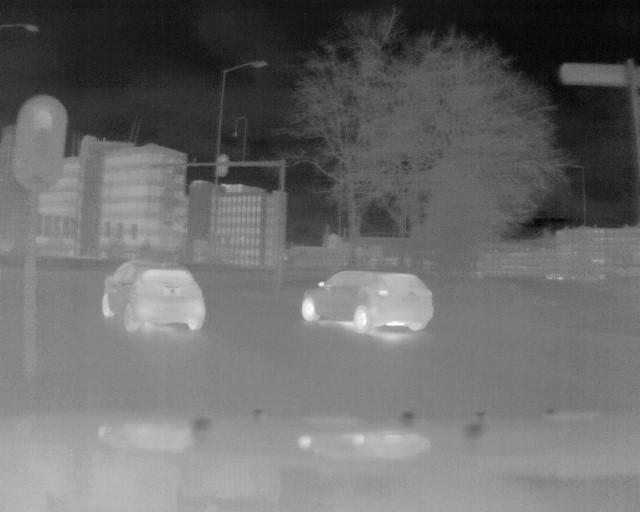car: (97, 251, 208, 341), (299, 268, 429, 342)
